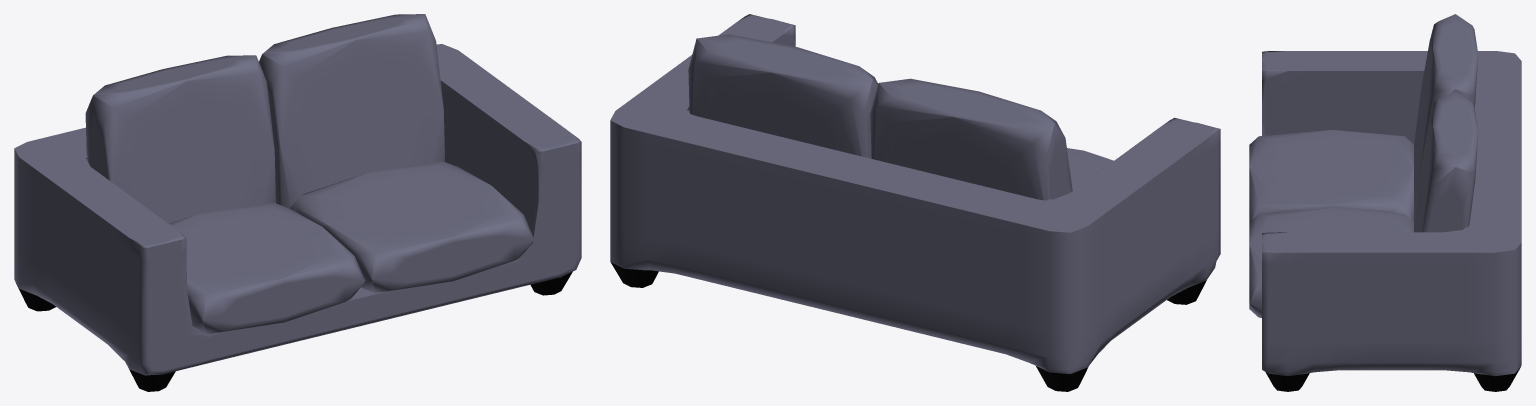
Rendered from sofa.fbx.
3 renders of one model, left to right at view 1: azimuth 30°, elevation 25°; view 2: azimuth 150°, elevation 25°; view 3: azimuth 270°, elevation 25°, orthographic. The views are drawn at different scales.
Parts seen in each view (by area): view 1: pCube2, pasted__pCube5, pCube5, pasted__pCube3, pCube3; view 2: pCube2, pCube5, pasted__pCube5, pCube3; view 3: pCube2, pCube3, pasted__pCube5, pCube5, pasted__pCube3.
Boxes of the visible parts, x1,y1,x2,y2 form: pCube2: [14, 44, 581, 391]; pasted__pCube5: [259, 14, 444, 208]; pCube5: [85, 55, 275, 223]; pasted__pCube3: [290, 161, 534, 292]; pCube3: [169, 203, 365, 334]; pCube2: [610, 14, 1220, 391]; pCube5: [870, 78, 1072, 200]; pasted__pCube5: [688, 34, 877, 158]; pCube3: [1067, 148, 1113, 190]; pCube2: [1262, 51, 1521, 391]; pCube3: [1249, 130, 1413, 221]; pasted__pCube5: [1414, 92, 1478, 232]; pCube5: [1414, 14, 1478, 220]; pasted__pCube3: [1249, 207, 1413, 317].
Size of the model in its own units: 12.78 by 6.15 by 7.29.
